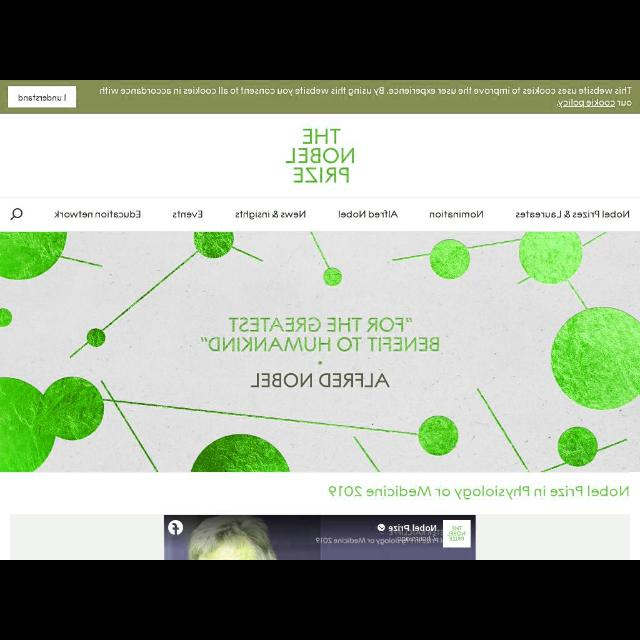icon: (7, 208, 25, 220)
iframe: (10, 514, 630, 558), (1, 82, 639, 114)
image: (1, 230, 637, 472), (285, 122, 355, 184)
multitab: (1, 198, 637, 230)
text: (327, 484, 633, 498), (513, 205, 633, 222), (53, 208, 141, 224), (234, 207, 310, 220), (336, 208, 399, 222), (430, 208, 484, 220), (169, 208, 203, 218)
